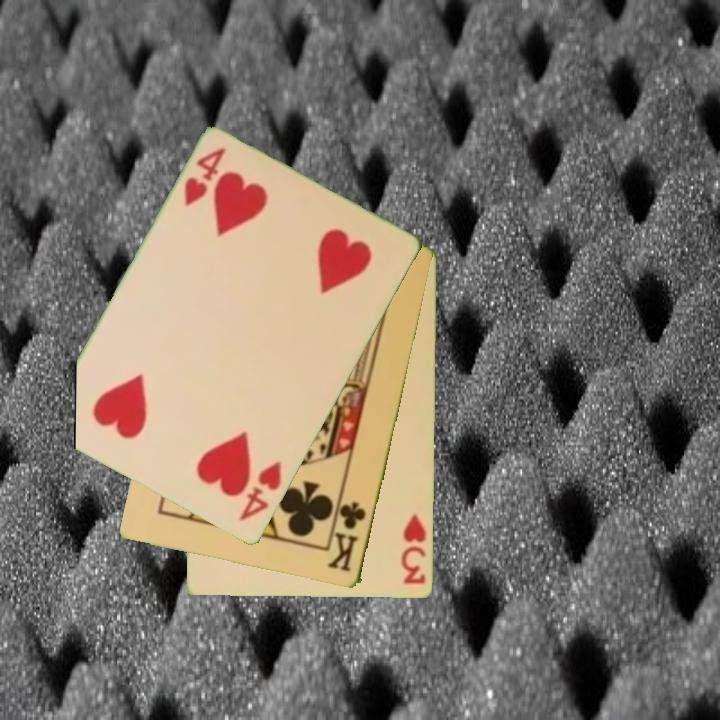3h: (398, 511, 430, 588)
4h: (236, 457, 285, 525), (180, 144, 229, 210)
Kc: (326, 499, 369, 575)
